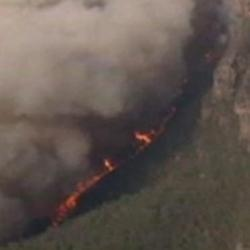fire: (62, 193, 77, 210), (130, 131, 153, 141), (106, 163, 118, 175)
smoke: (7, 7, 124, 104)
